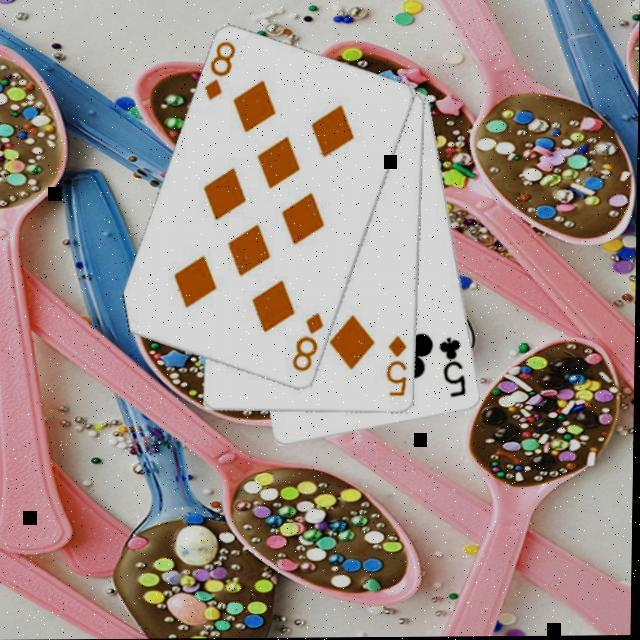5C: (436, 334, 471, 400)
5D: (383, 332, 411, 399)
8D: (289, 309, 328, 375), (200, 38, 238, 104)
